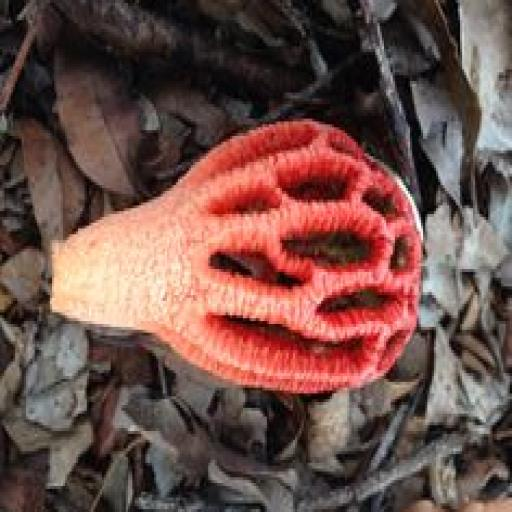Red Cage Fungus: (52, 114, 426, 405)
